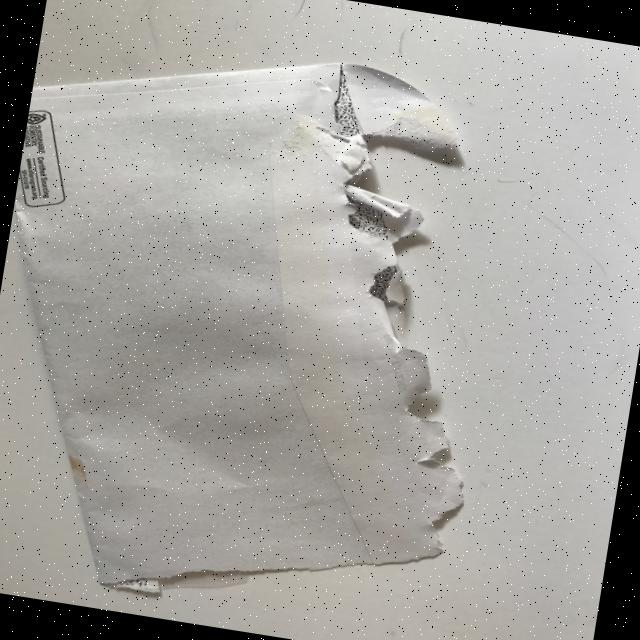paper: (0, 15, 529, 640)
